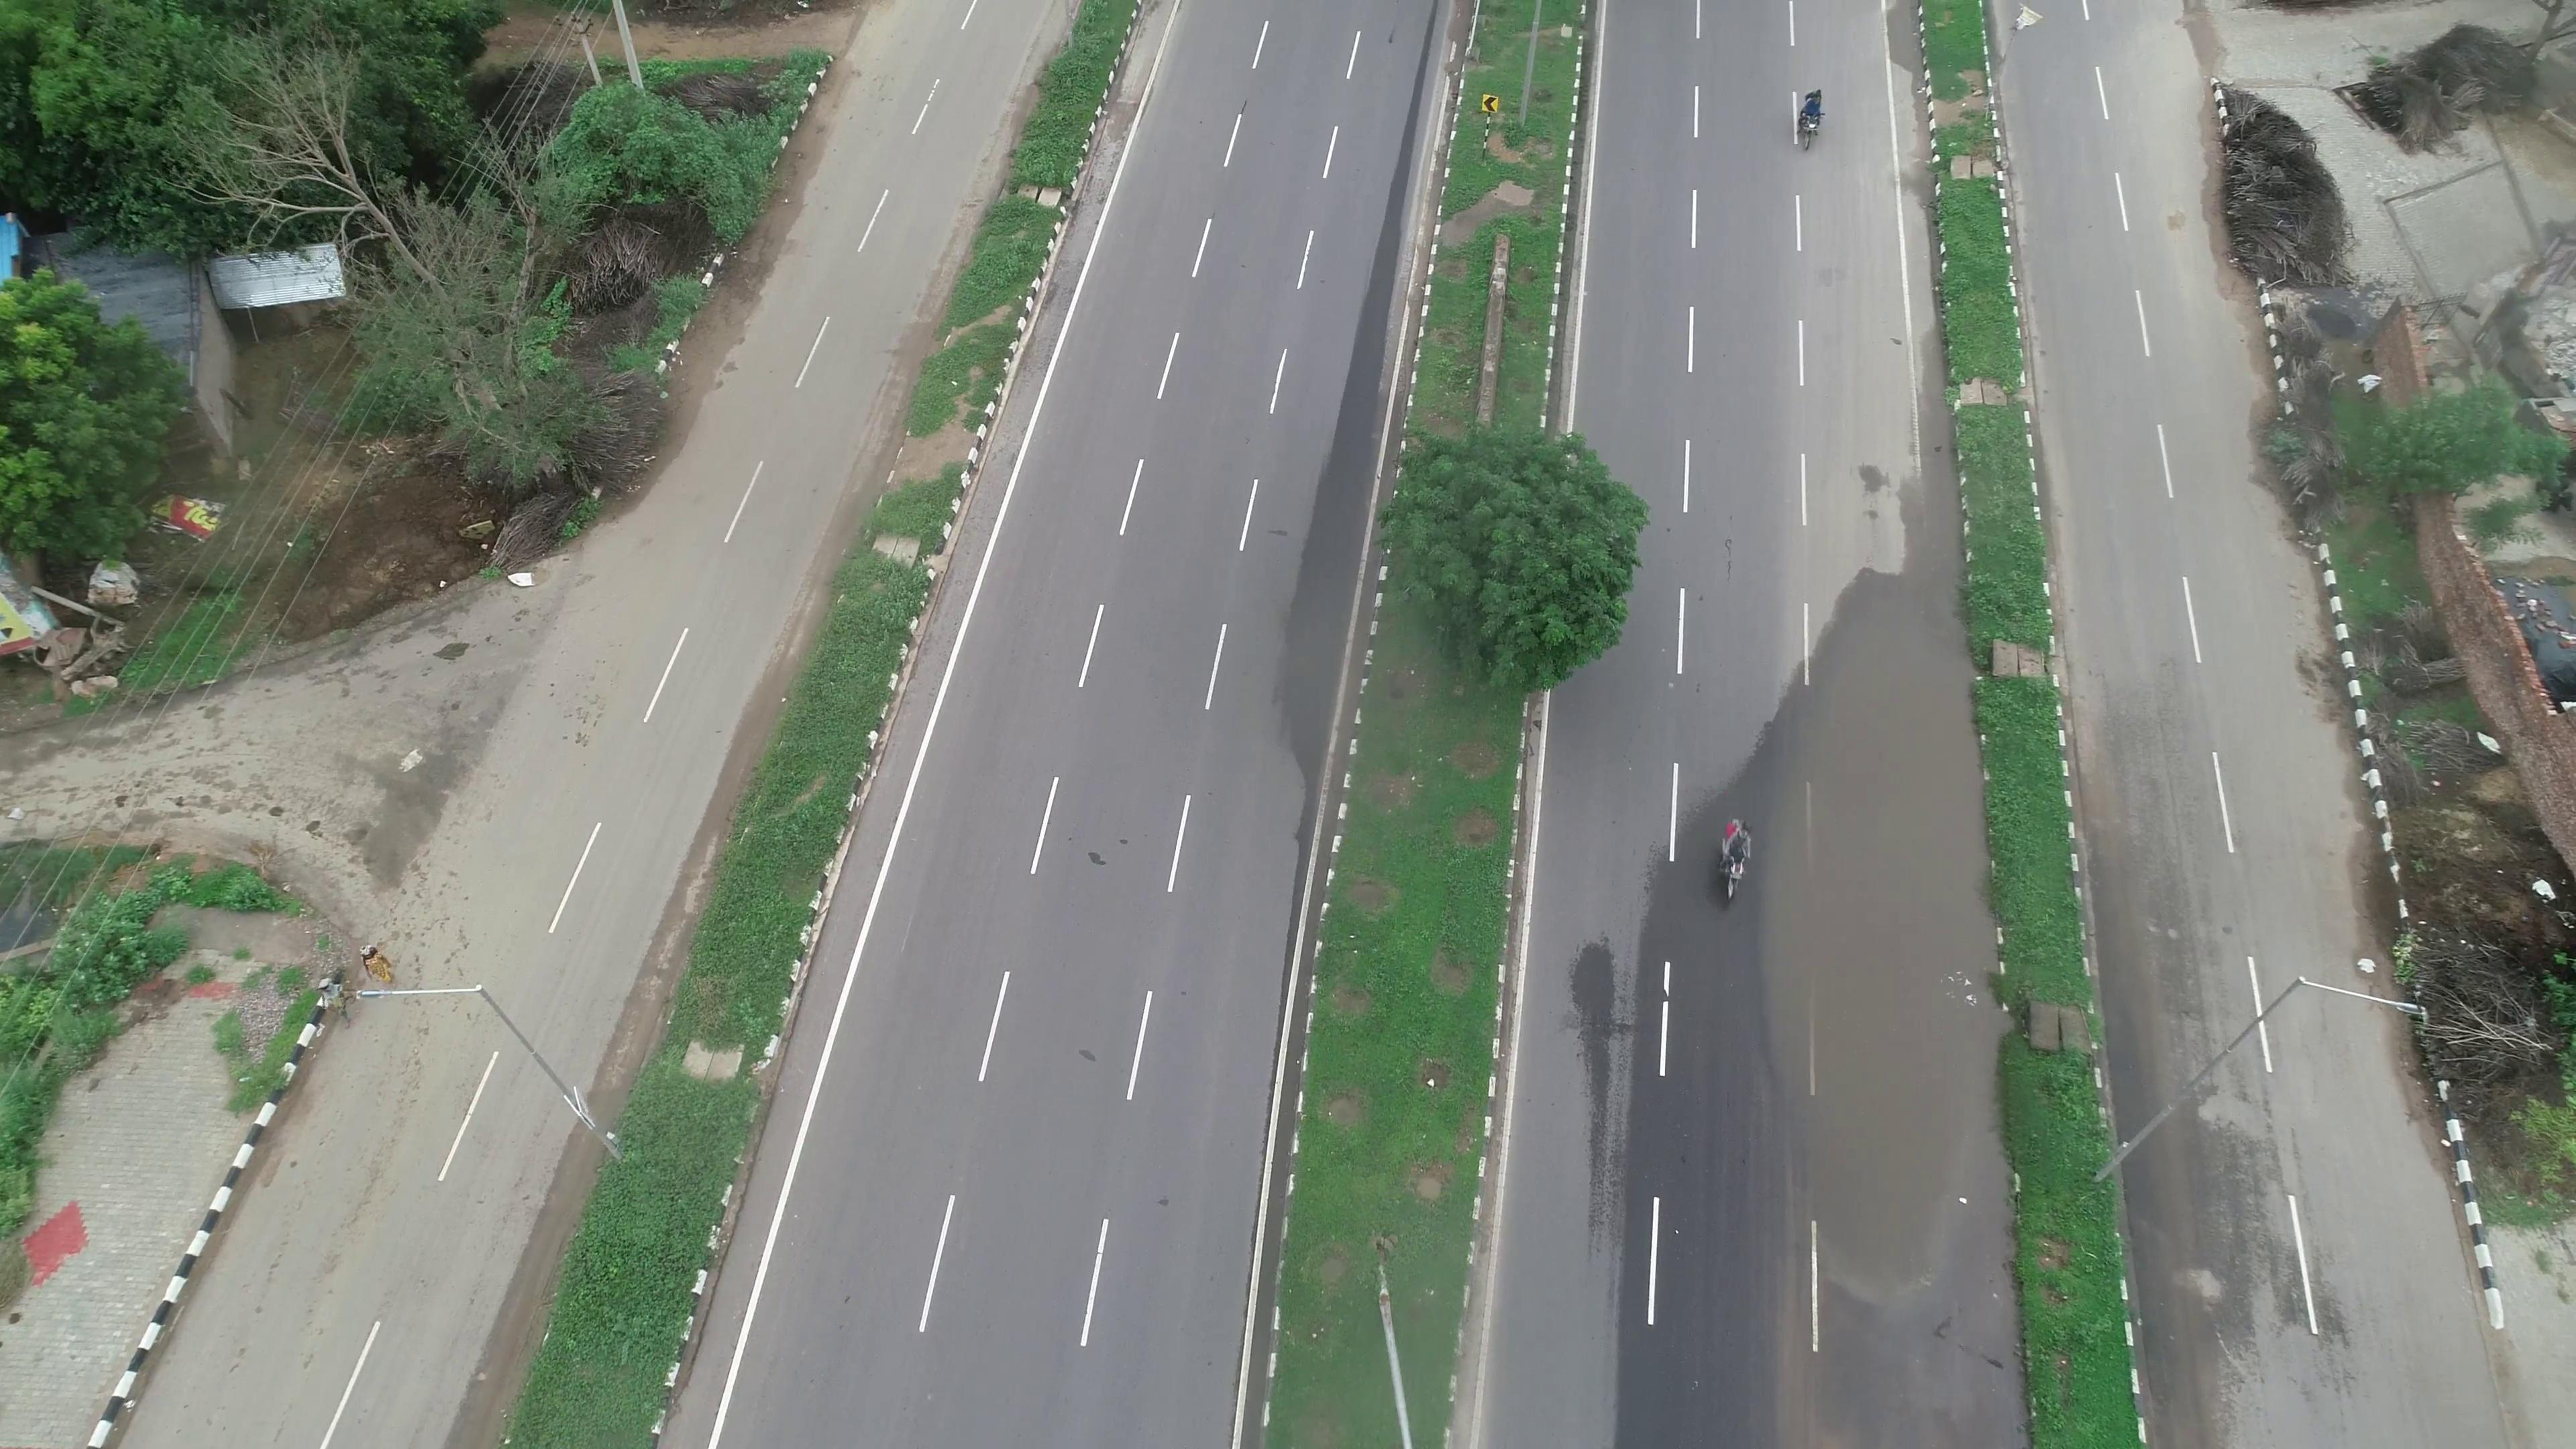Waterlogging: (1773, 610, 2005, 1336)
